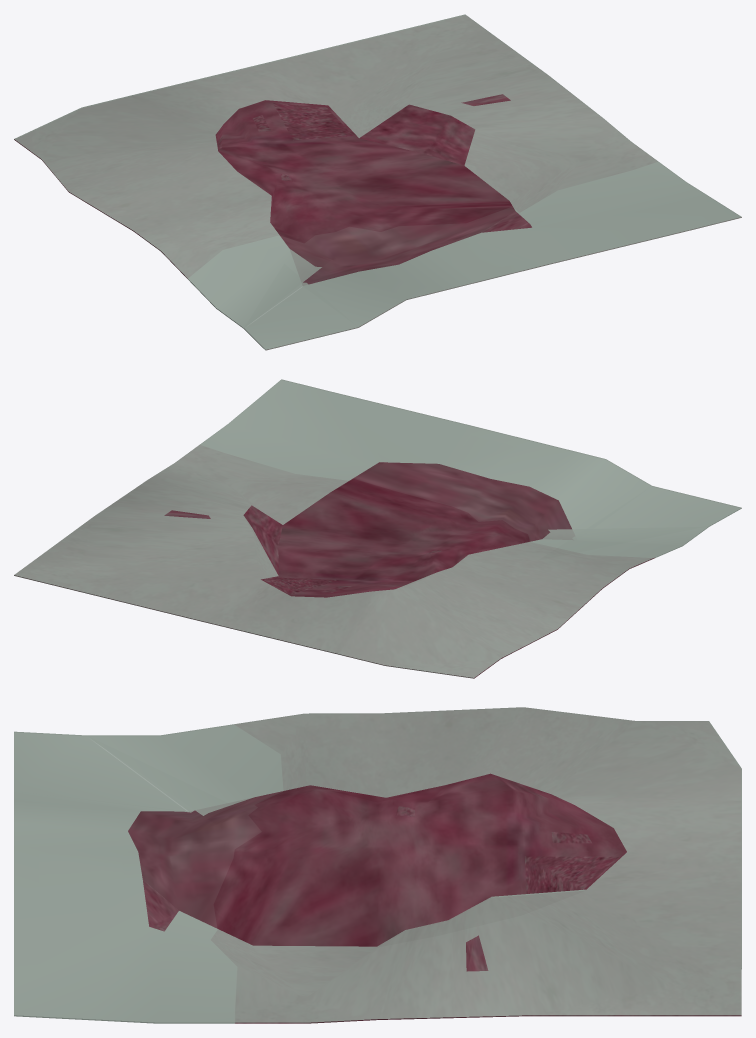
The model's file is tissue_ferm_oil.fbx.
3 views of the same model, one above another, from view 1: azimuth 30°, elevation 25°; view 2: azimuth 150°, elevation 25°; view 3: azimuth 270°, elevation 25° (orthographic). The views are drawn at different scales.
Visible parts, largest first — view 1: tissue_oil1; view 2: tissue_oil1; view 3: tissue_oil1.
Part boxes in pixels (bbox=[...]): tissue_oil1: bbox=[14, 14, 741, 350]; tissue_oil1: bbox=[14, 379, 741, 678]; tissue_oil1: bbox=[14, 707, 741, 1023].
Bounding box in the file's own units: 43.82 × 4 × 43.81.
Materials: 1 (1 with a texture image).
